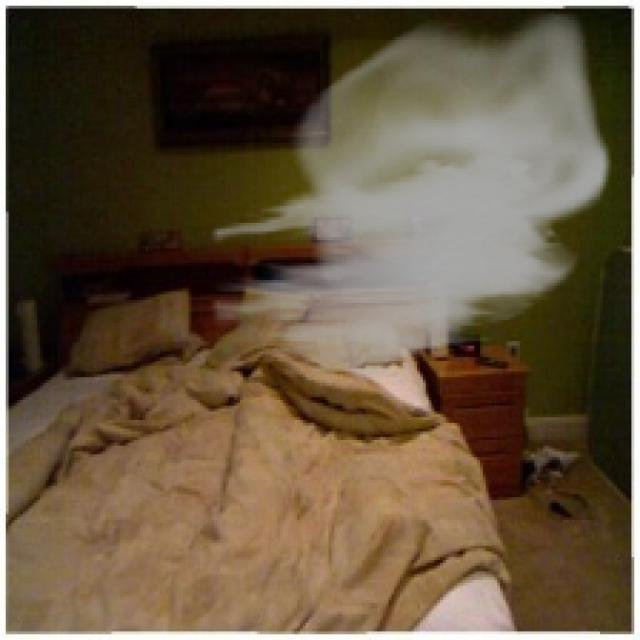smoke: (212, 11, 612, 383)
